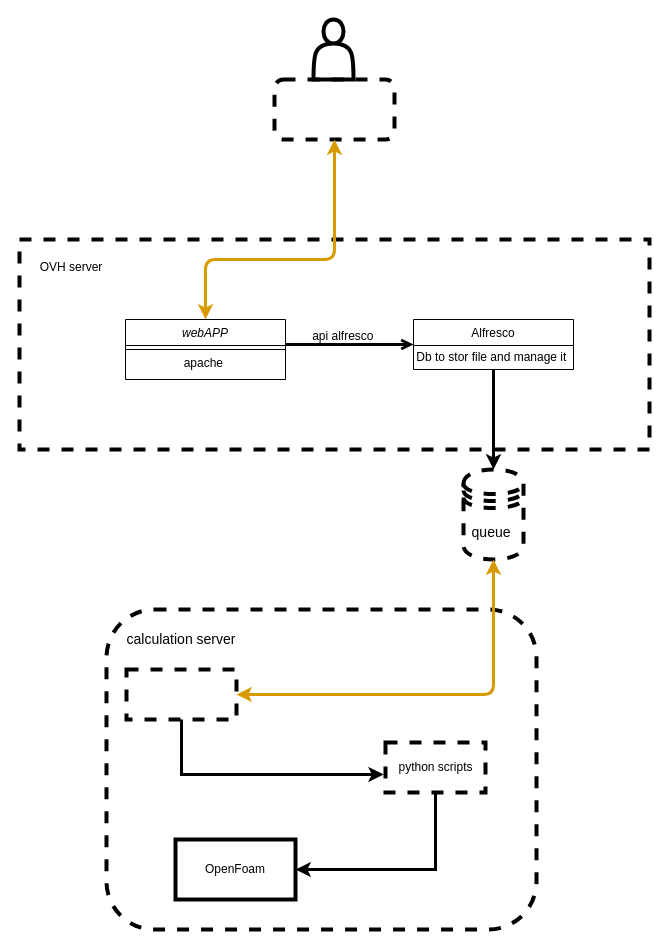
The diagram is 668 pixels wide and 948 high, and some of its shapes have lost their labels. The box of each missing label's shape, as (x1, y1, x2, y2) in pixels:
client: (272, 77, 396, 141)
workers: (124, 667, 238, 721)
